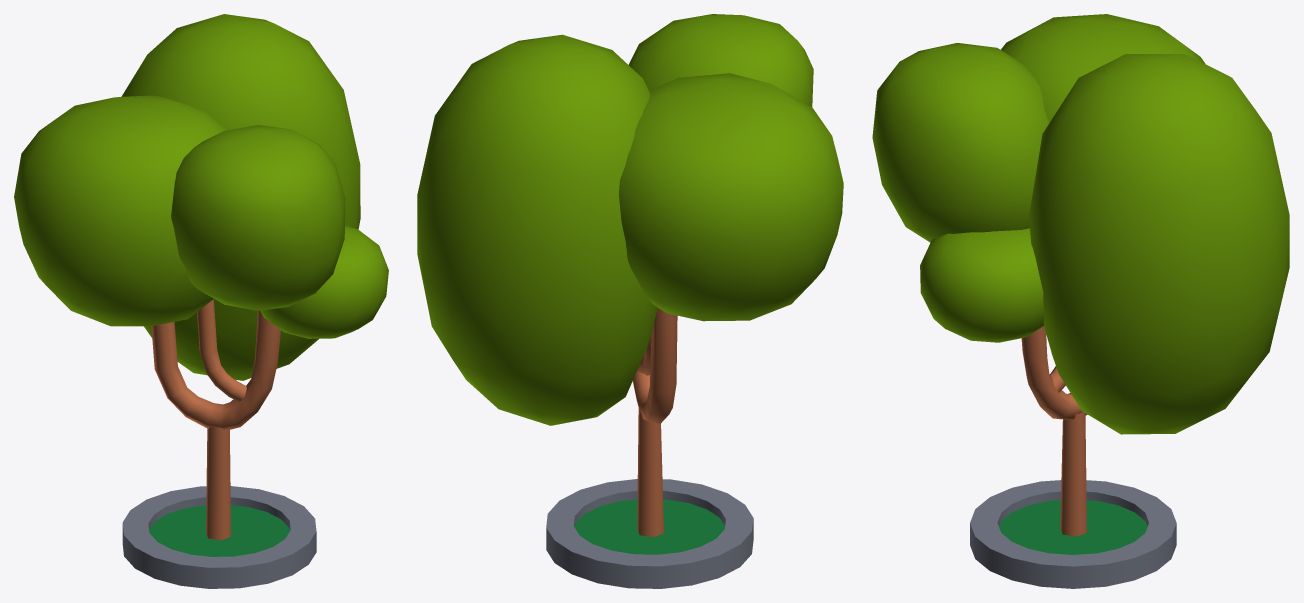
The model's file is tree_v4.fbx.
3 renders of one model, left to right at view 1: azimuth 30°, elevation 25°; view 2: azimuth 150°, elevation 25°; view 3: azimuth 270°, elevation 25°, orthographic. The views are drawn at different scales.
Parts seen in each view (by area): view 1: tree_v4; view 2: tree_v4; view 3: tree_v4.
Part boxes in pixels (bbox=[...]): tree_v4: bbox=[14, 14, 388, 588]; tree_v4: bbox=[417, 14, 843, 588]; tree_v4: bbox=[872, 14, 1289, 588].
Size of the model in its own units: 287 by 386 by 287.
